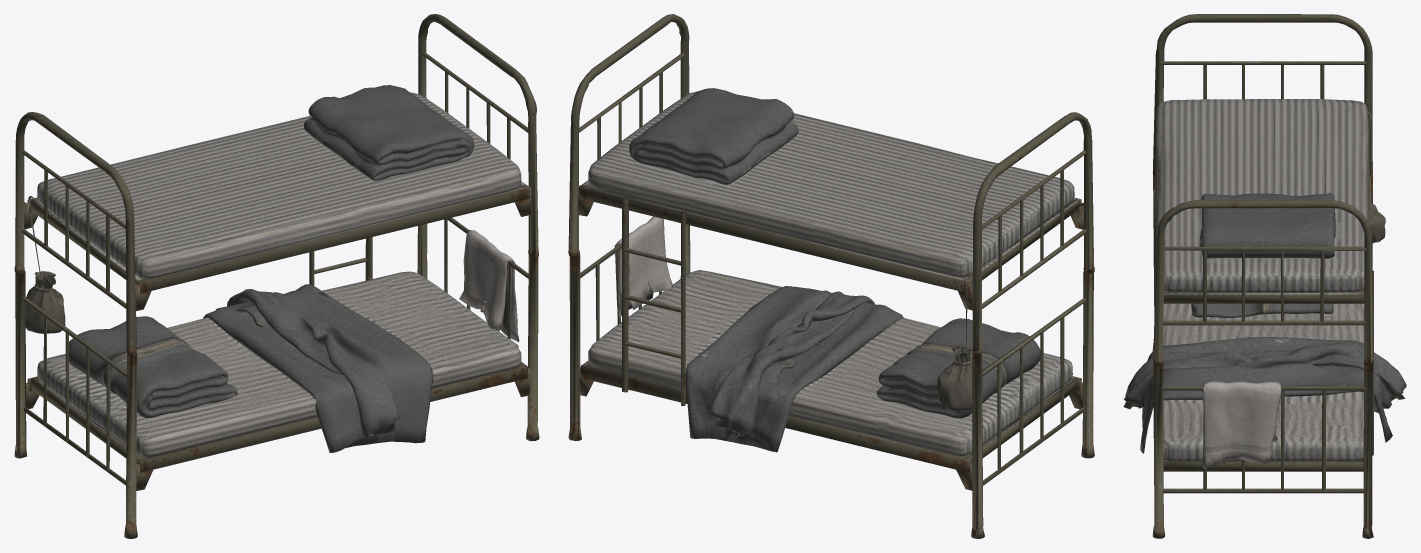
The model's file is silo81_bunk_a.glb.
The picture shows the model from 3 angles, left to right: view 1: azimuth 30°, elevation 25°; view 2: azimuth 150°, elevation 25°; view 3: azimuth 270°, elevation 25°; orthographic projection. The views are drawn at different scales.
Size of the model in its own units: 0.9536 by 0.771 by 0.5894.
1 material, 1 textured.
